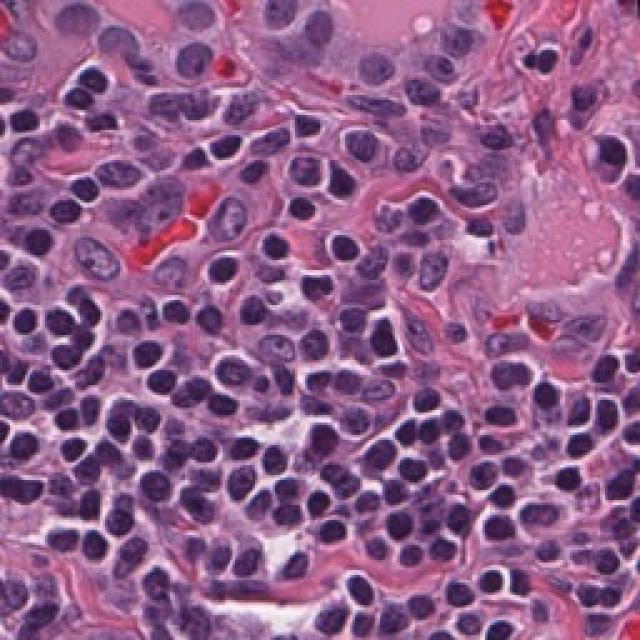normal: (183, 183, 268, 251), (84, 139, 145, 211), (402, 241, 470, 305), (35, 0, 110, 55), (323, 116, 395, 170), (426, 1, 480, 71), (376, 124, 432, 188), (170, 26, 220, 97), (0, 177, 58, 235), (352, 45, 408, 102), (302, 0, 358, 50), (409, 46, 455, 105)
